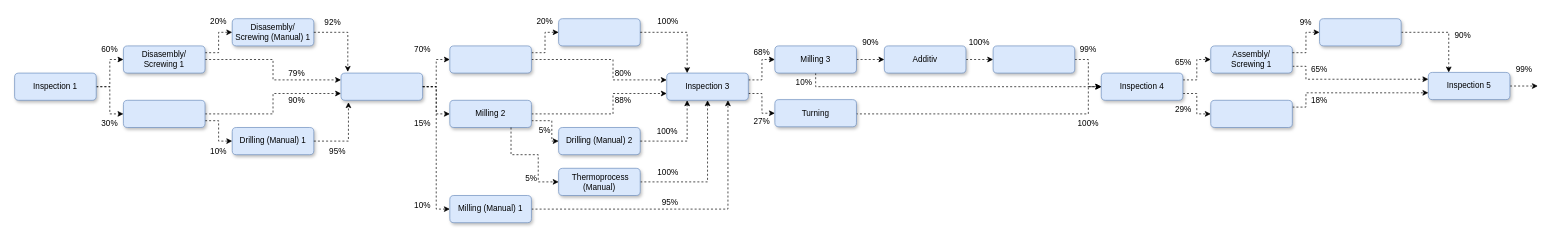
This 1557x239 diagram has some shape labels left out. The centre of each missing label's shape, as x and y in pixels:
"Assembly/ Screwing (Manual) 1" belongs at (1251,114).
"Assembly/ Screwing (Manual) 2" belongs at (1360,33).
"Disasembly/ Screwing (Manual) 2" belongs at (599,33).
"Disasembly/ Screwing 2" belongs at (491,60).
"Inspection 2" belongs at (382,87).
"Milling 1" belongs at (164,114).
"Milling 4" belongs at (1034,60).
